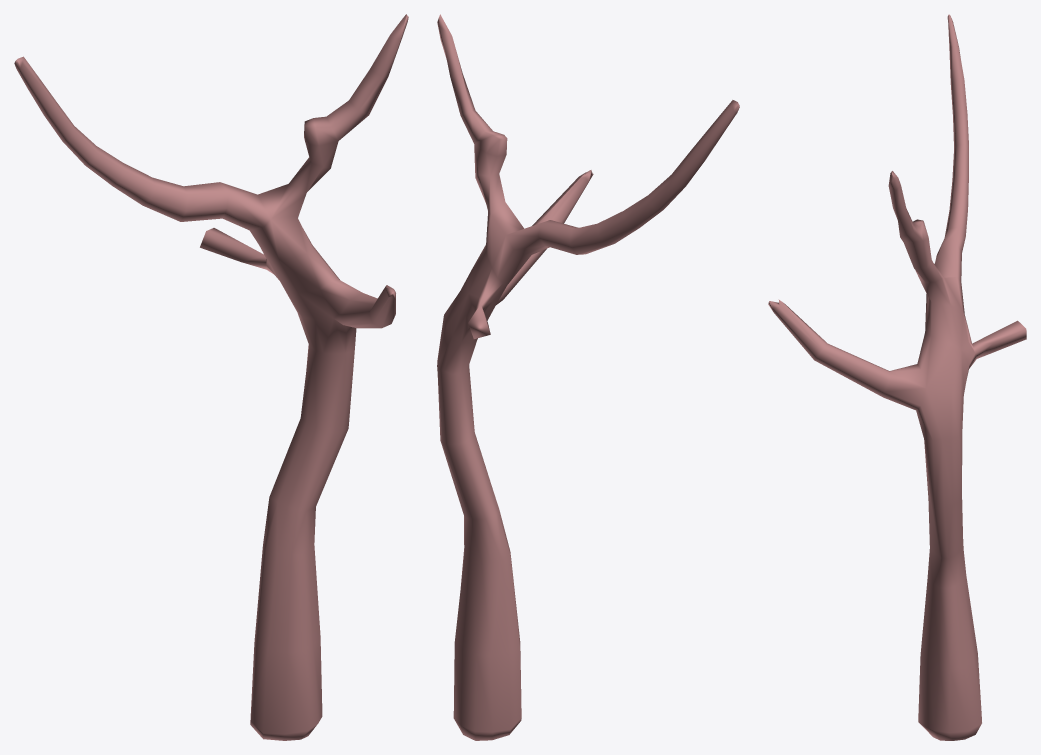
Rendered from PALITO.fbx.
3 views of the same model, side by side, from view 1: azimuth 30°, elevation 25°; view 2: azimuth 150°, elevation 25°; view 3: azimuth 270°, elevation 25° (orthographic). The views are drawn at different scales.
Parts seen in each view (by area): view 1: PALITO1; view 2: PALITO1; view 3: PALITO1.
Boxes of the visible parts, box(x1,y1,x2,y2) form: PALITO1: box(14, 14, 408, 740); PALITO1: box(437, 14, 739, 740); PALITO1: box(768, 14, 1026, 740).
Bounding box in the file's own units: 165 × 325 × 124.
